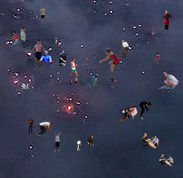Human: (79, 69, 100, 95), (121, 40, 149, 59), (113, 106, 138, 127), (30, 39, 47, 69), (151, 72, 181, 89), (99, 48, 120, 72), (27, 118, 53, 137), (38, 50, 66, 66), (141, 133, 159, 150), (139, 101, 152, 120), (162, 9, 172, 32), (159, 154, 174, 167), (20, 26, 29, 45), (69, 58, 78, 76), (152, 51, 163, 64), (54, 132, 61, 152), (39, 6, 46, 22), (12, 31, 19, 46), (87, 135, 94, 148), (69, 77, 78, 86), (21, 82, 29, 89), (77, 139, 81, 151), (54, 37, 58, 48), (110, 78, 117, 82), (40, 160, 49, 163), (86, 56, 88, 61), (83, 119, 85, 124), (84, 164, 87, 167)
